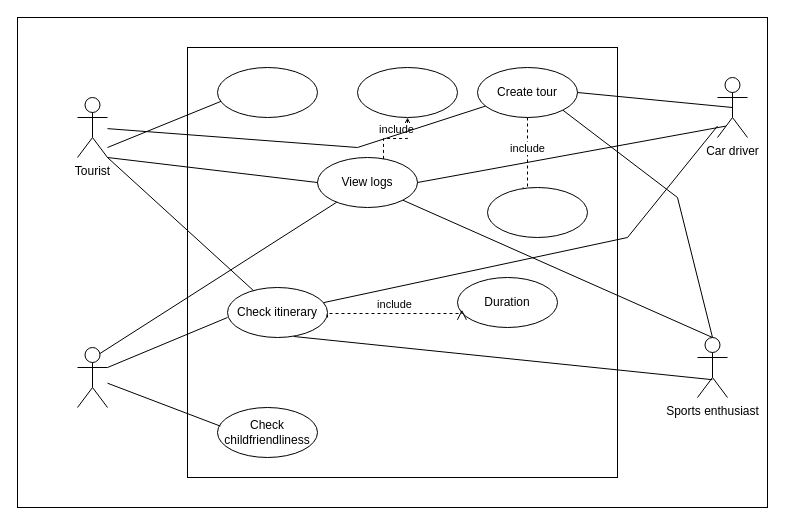
This 785x525 diagram has some shape labels left out. Each missing label, with the centre of its shape:
Create, updarte,delete logs: (x=407, y=92)
Parent: (x=92, y=377)
Update tour: (x=537, y=212)
View Popularity: (x=267, y=92)
